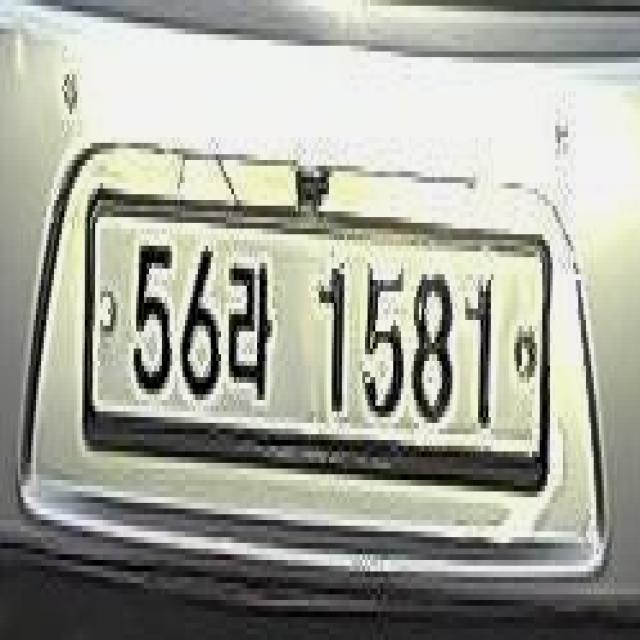illegal_plate: (81, 182, 551, 511)
